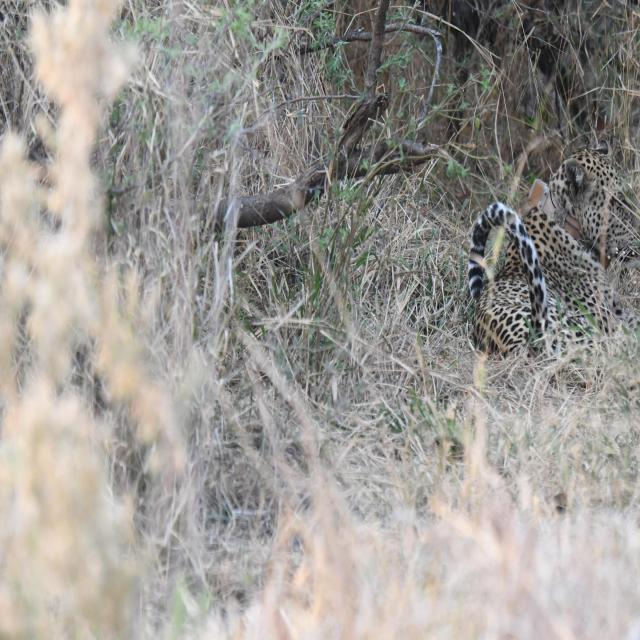Leopard: (466, 135, 640, 380)
